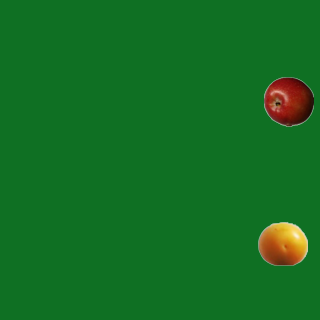Apple Braeburn: (263, 76, 313, 126)
Cherry Wax Yellow: (257, 218, 307, 268)
